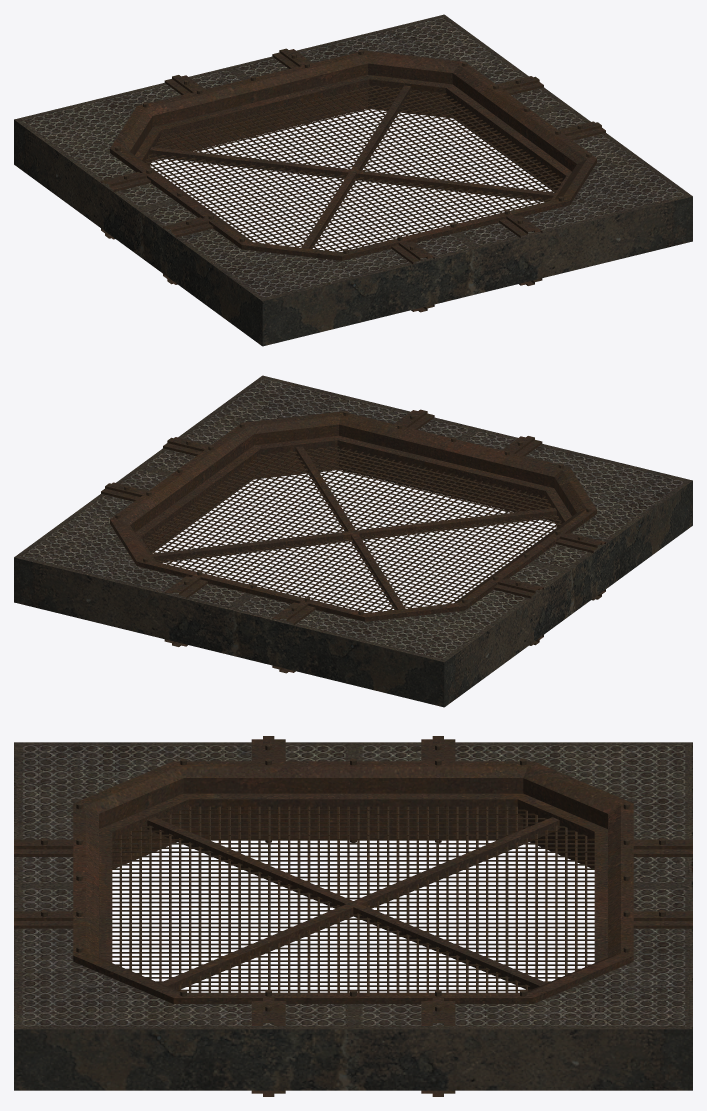
The model's file is floor_ceiling_rtx_2.dae.
3 renders of one model, top to bottom at view 1: azimuth 30°, elevation 25°; view 2: azimuth 150°, elevation 25°; view 3: azimuth 270°, elevation 25°, orthographic. The views are drawn at different scales.
Visible parts, largest first — view 1: floor_ceiling_rtx_2, floor_ceiling_rtx_2_panel_child; view 2: floor_ceiling_rtx_2, floor_ceiling_rtx_2_panel_child; view 3: floor_ceiling_rtx_2, floor_ceiling_rtx_2_panel_child.
Part boxes in pixels (left/top/right/bottom): floor_ceiling_rtx_2: left=14, top=14, right=692, bottom=346; floor_ceiling_rtx_2_panel_child: left=135, top=74, right=571, bottom=251; floor_ceiling_rtx_2: left=14, top=375, right=692, bottom=707; floor_ceiling_rtx_2_panel_child: left=135, top=435, right=571, bottom=612; floor_ceiling_rtx_2: left=14, top=736, right=692, bottom=1096; floor_ceiling_rtx_2_panel_child: left=99, top=793, right=607, bottom=992.
Size of the model in its own units: 4 by 4 by 0.5303.
4 materials, 4 textured.
